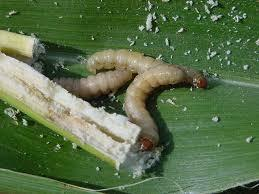insect: (121, 65, 182, 150), (48, 68, 129, 97), (84, 48, 163, 73)
